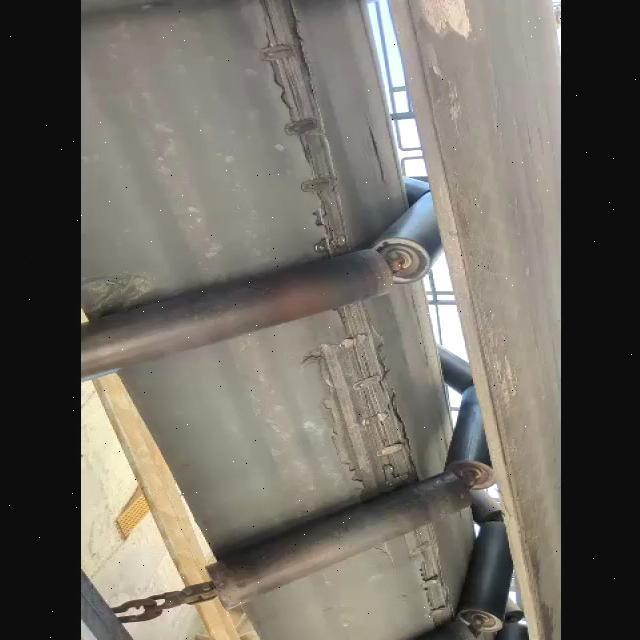Tear: (249, 0, 358, 254), (298, 302, 433, 493), (401, 526, 466, 630)
